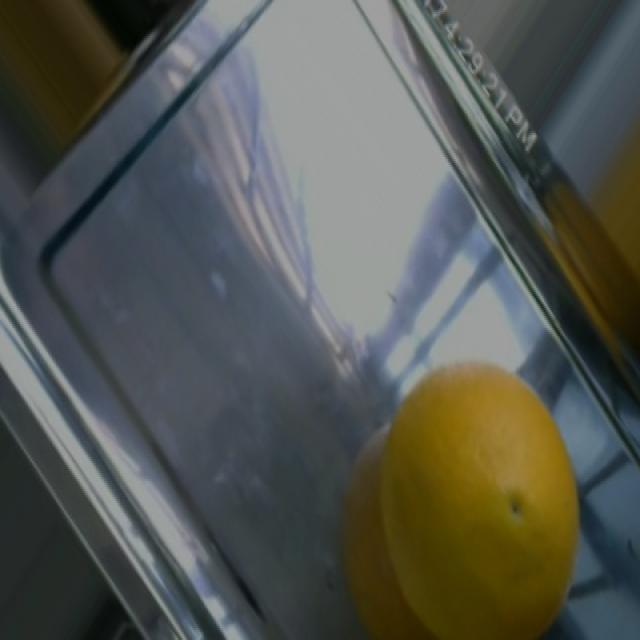Fruit: (324, 338, 599, 640)
